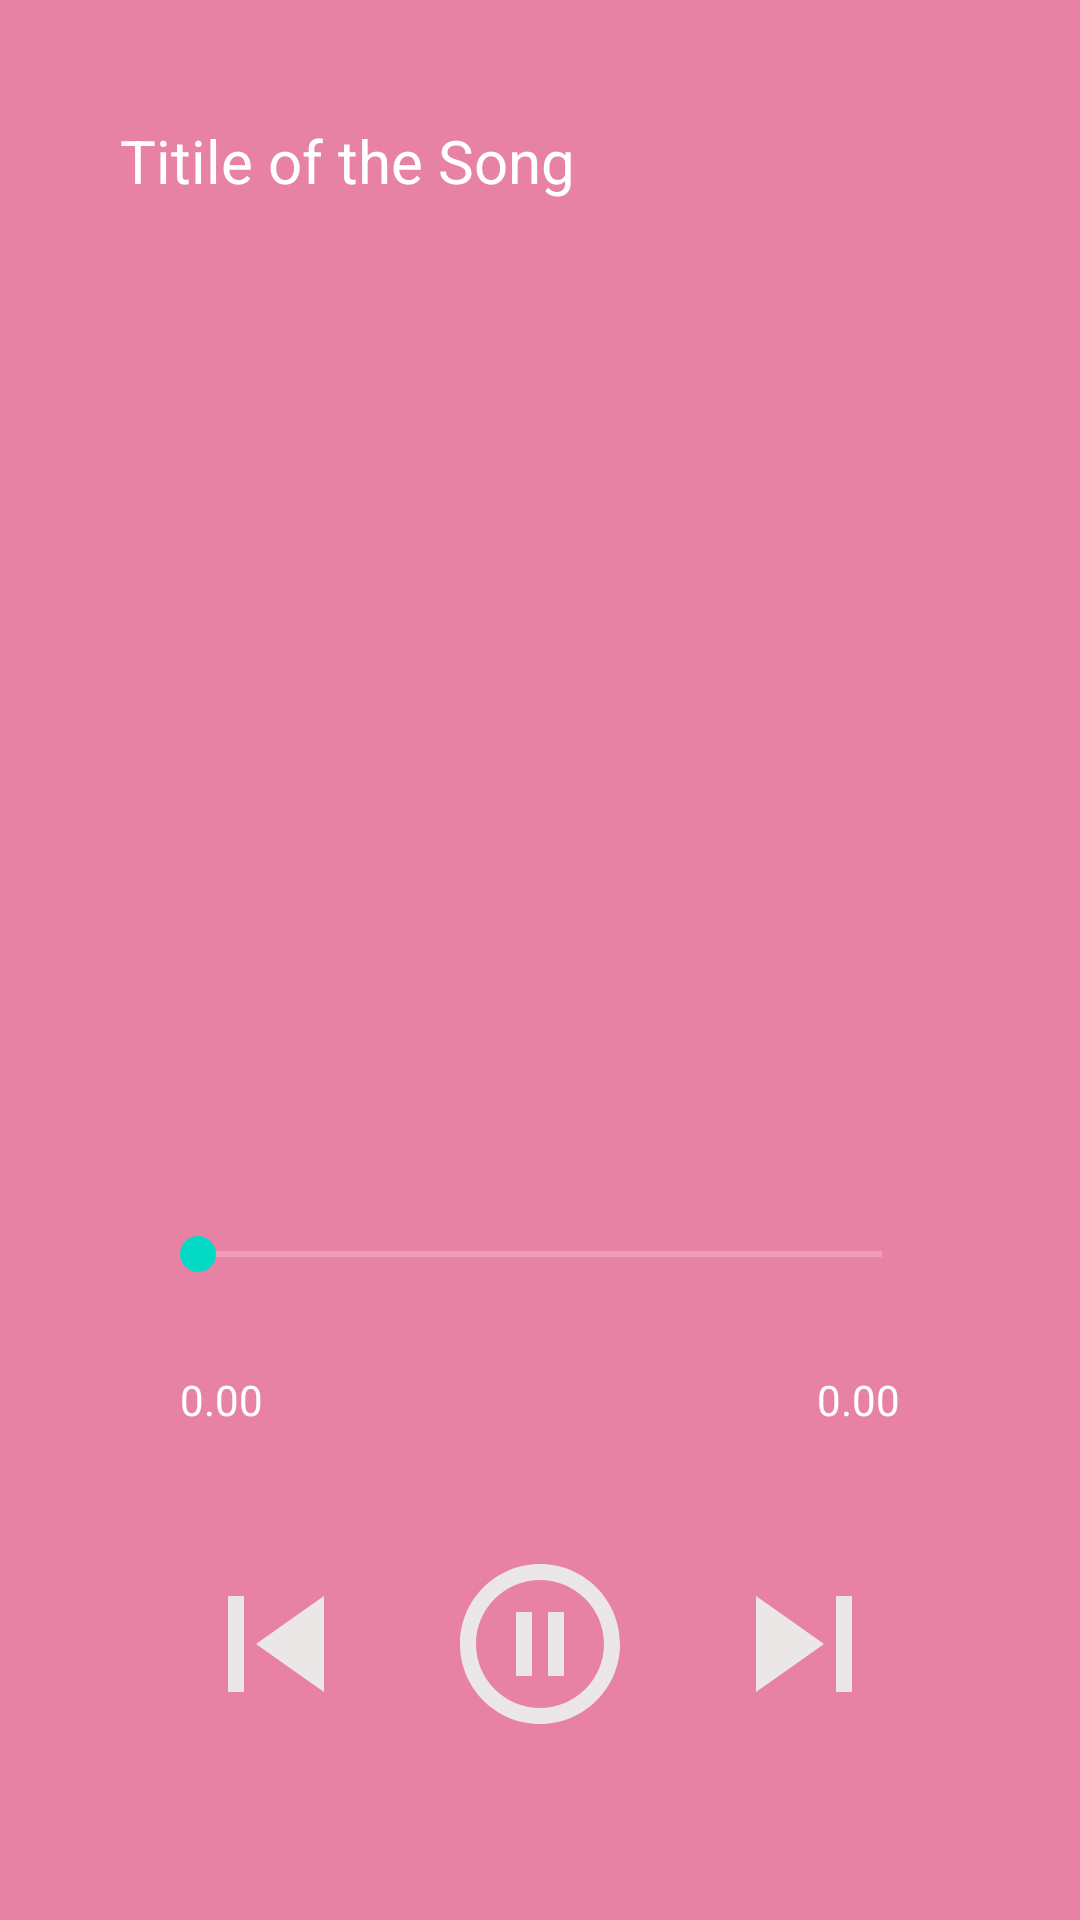

Where to tap for icons on this 1080 × 1920 app screen, as (x=x, y=y):
pause circle: (x=540, y=1644)
skip next: (x=804, y=1644)
skip previous: (x=276, y=1644)
